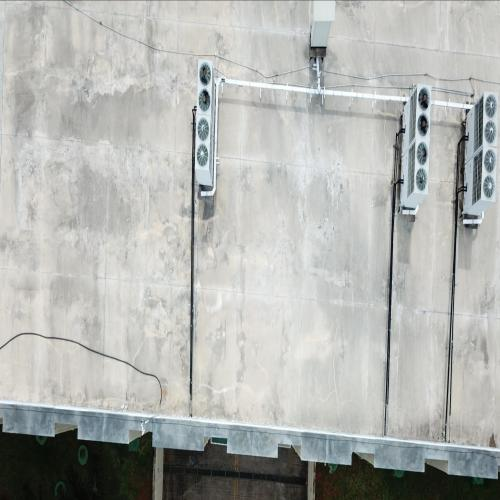conde: (463, 148, 500, 218), (401, 141, 432, 216), (462, 89, 500, 148), (402, 84, 433, 142), (194, 114, 216, 189), (196, 58, 217, 115)
